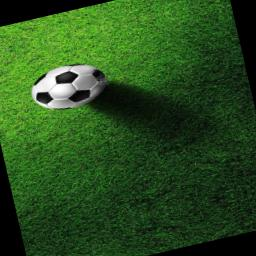football: (22, 54, 110, 116)
